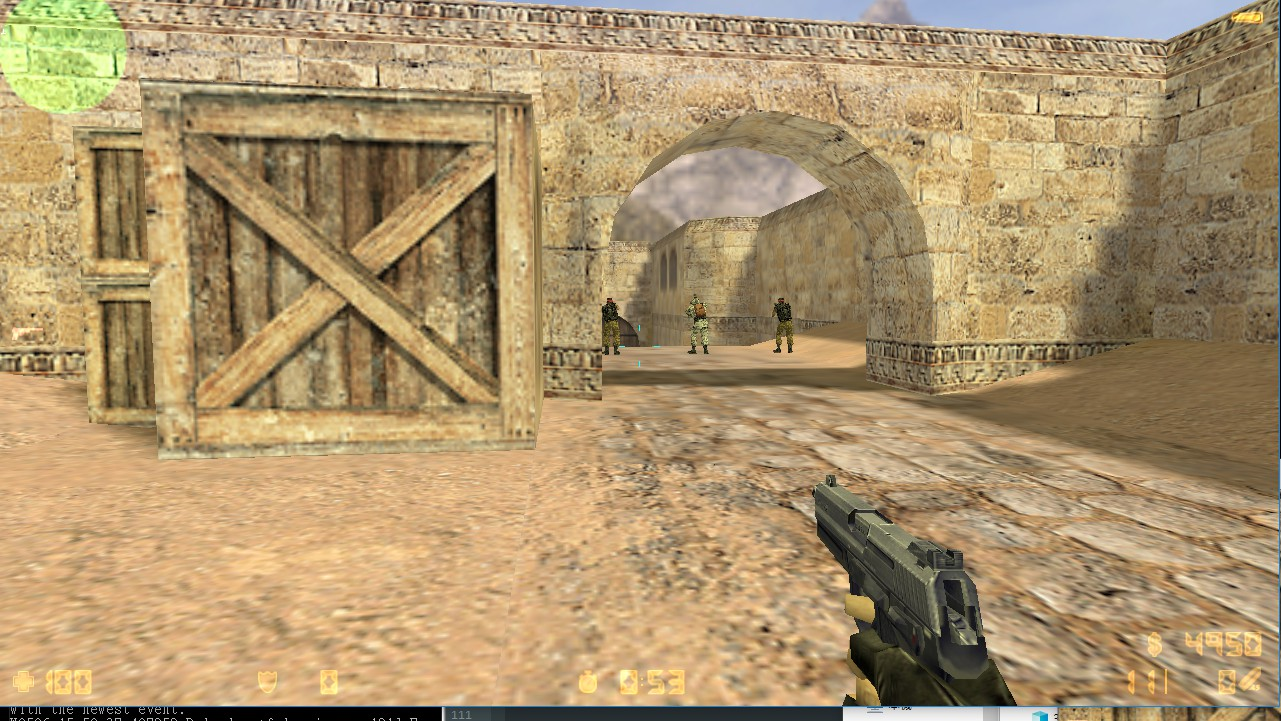person: (685, 291, 712, 357), (600, 294, 620, 359), (770, 298, 793, 354)
